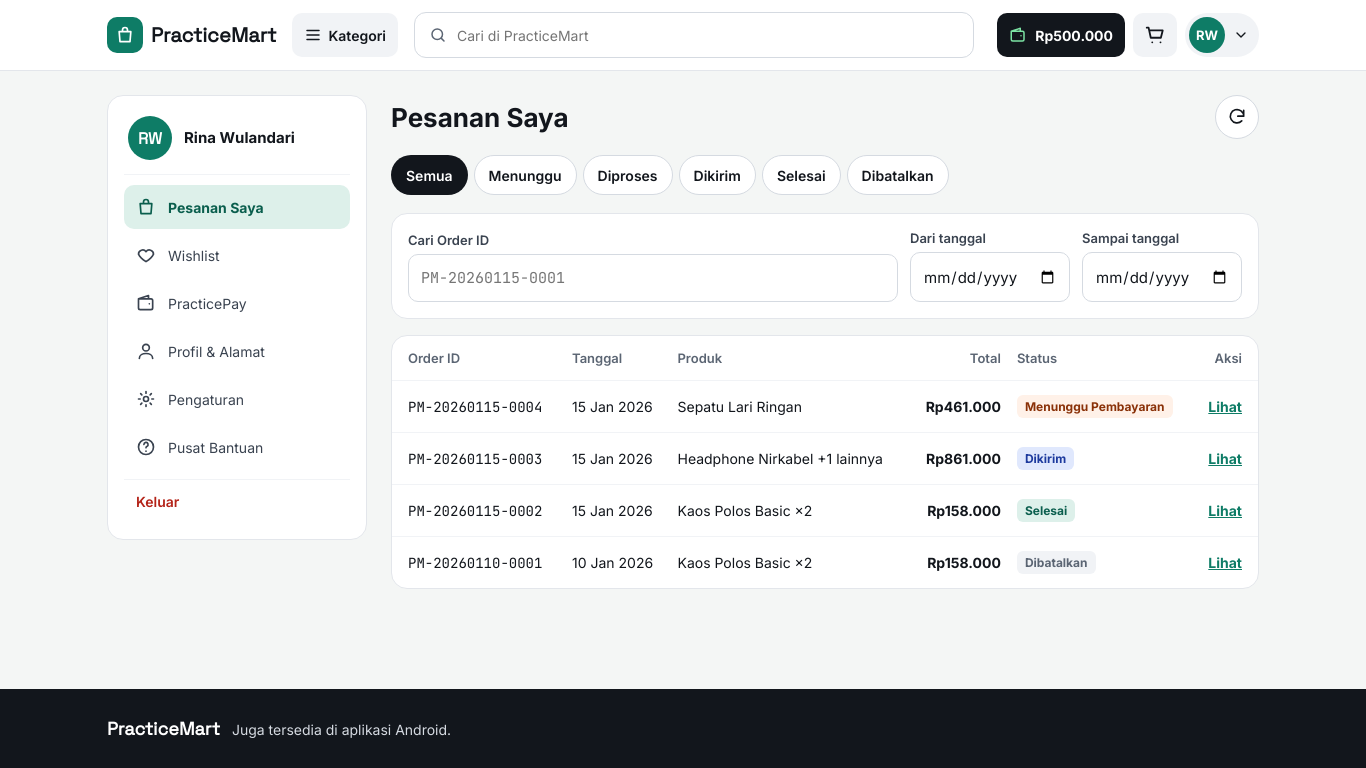
Test: Pesanan Saya (W-ORD-01) › tab, cari Order ID, rentang tanggal, empty state
Expected: the number of rows with test id "shop_item_order_row" is 4, [392, 380, 1258, 432]; [392, 432, 1258, 484]; [392, 484, 1258, 536]; [392, 536, 1258, 588]
Click the tab with test id "shop_tab_order_dikirim" at (717, 175), box [678, 155, 756, 195]
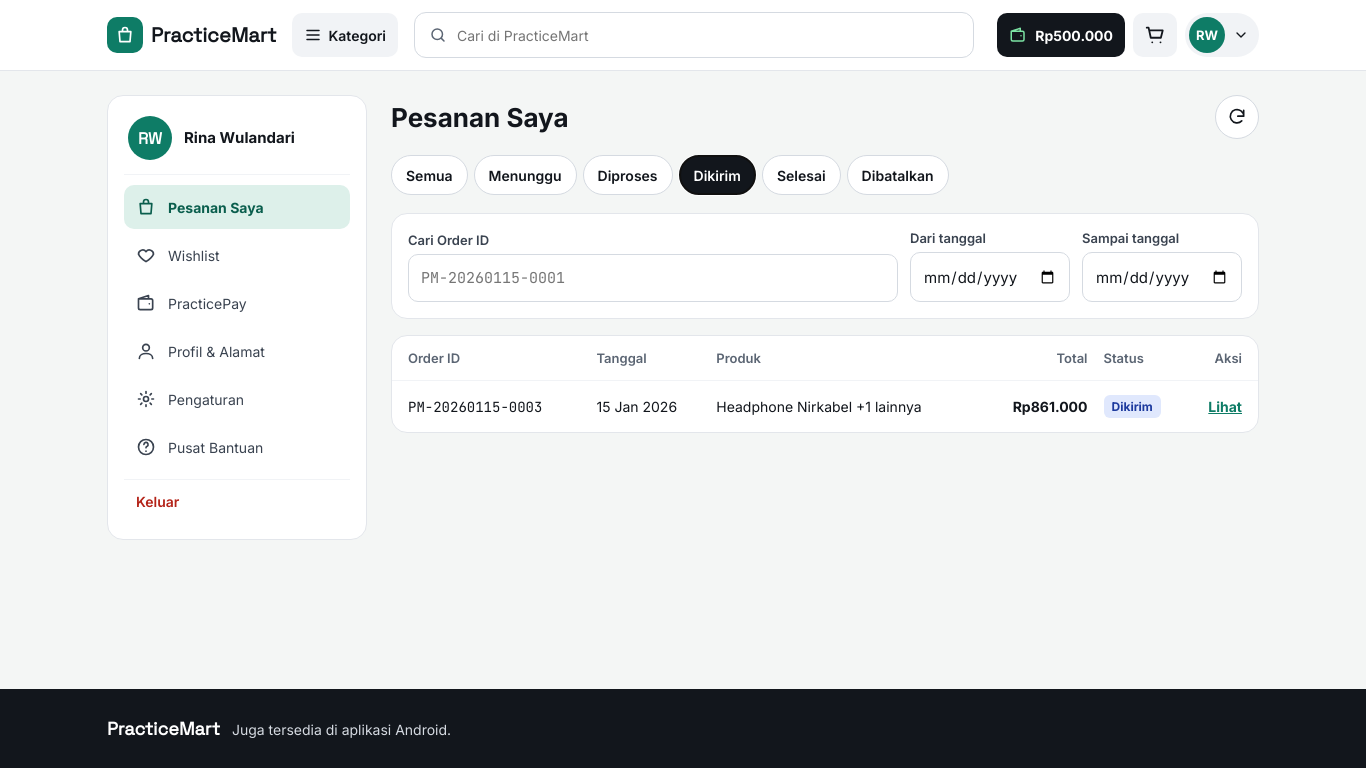
Result: the elements with test id "shop_txt_order_id" read "PM-20260115-0003", in this order at [392, 380, 588, 432]
Click the tab with test id "shop_tab_order_semua" at (429, 175), box [391, 155, 468, 195]
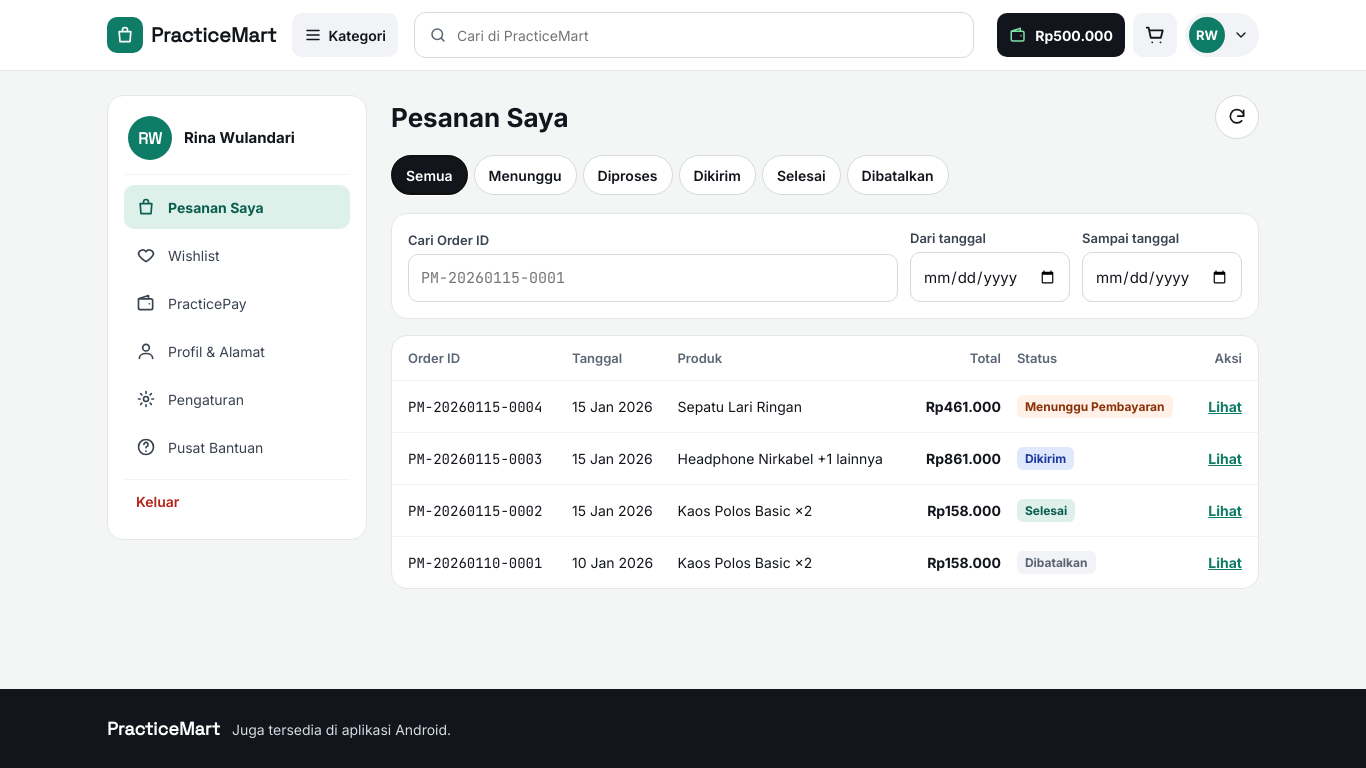
Type "pm-20260115-0002" into the search field with test id "shop_input_order_search" at (653, 278), box [408, 254, 898, 302]
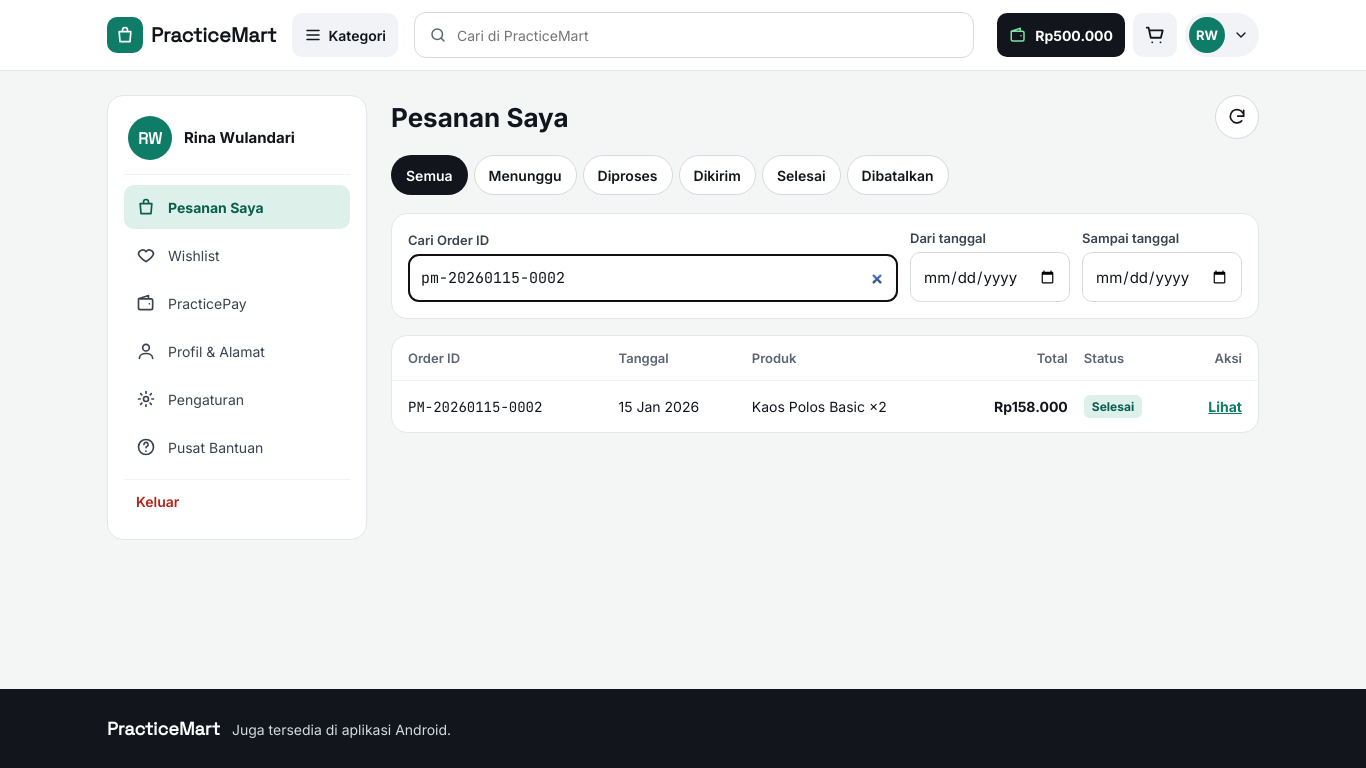
Result: the number of rows with test id "shop_item_order_row" is 1 at [392, 380, 1258, 432]
Clear the search field with test id "shop_input_order_search" at (653, 278), box [408, 254, 898, 302]
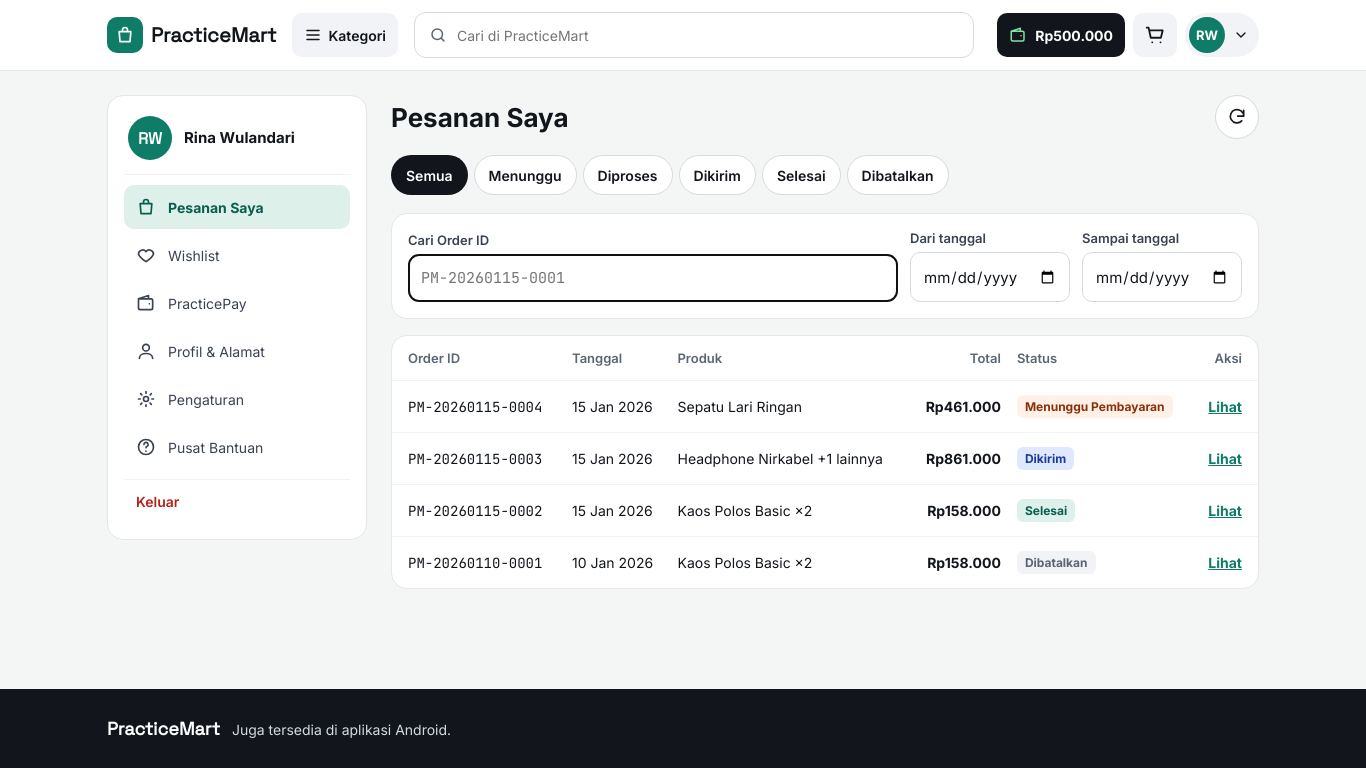
Type "2026-01-12" into the date field with test id "shop_input_order_date_to" at (1162, 277), box [1082, 252, 1242, 302]
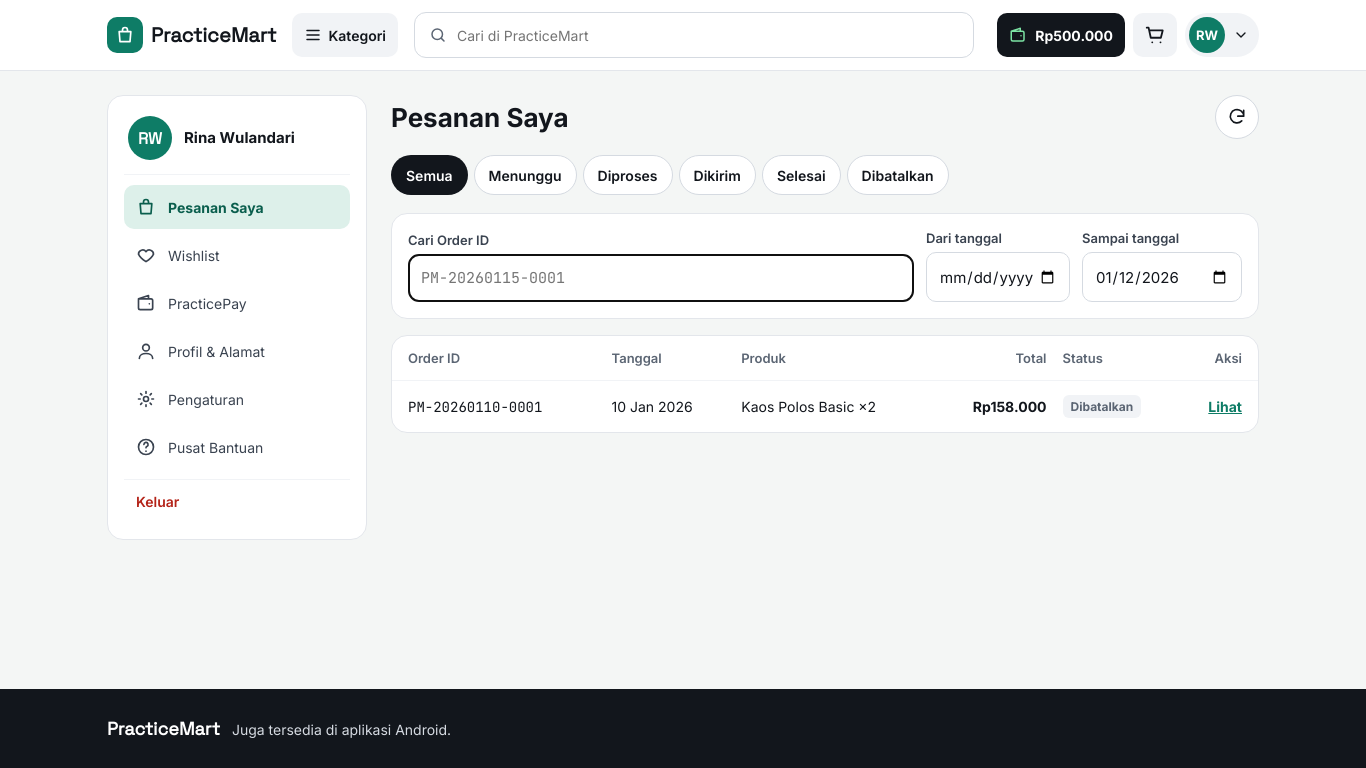
Result: the elements with test id "shop_txt_order_id" read "PM-20260110-0001", in this order at [392, 380, 604, 432]
Click the tab with test id "shop_tab_order_selesai" at (801, 175), box [762, 155, 841, 195]
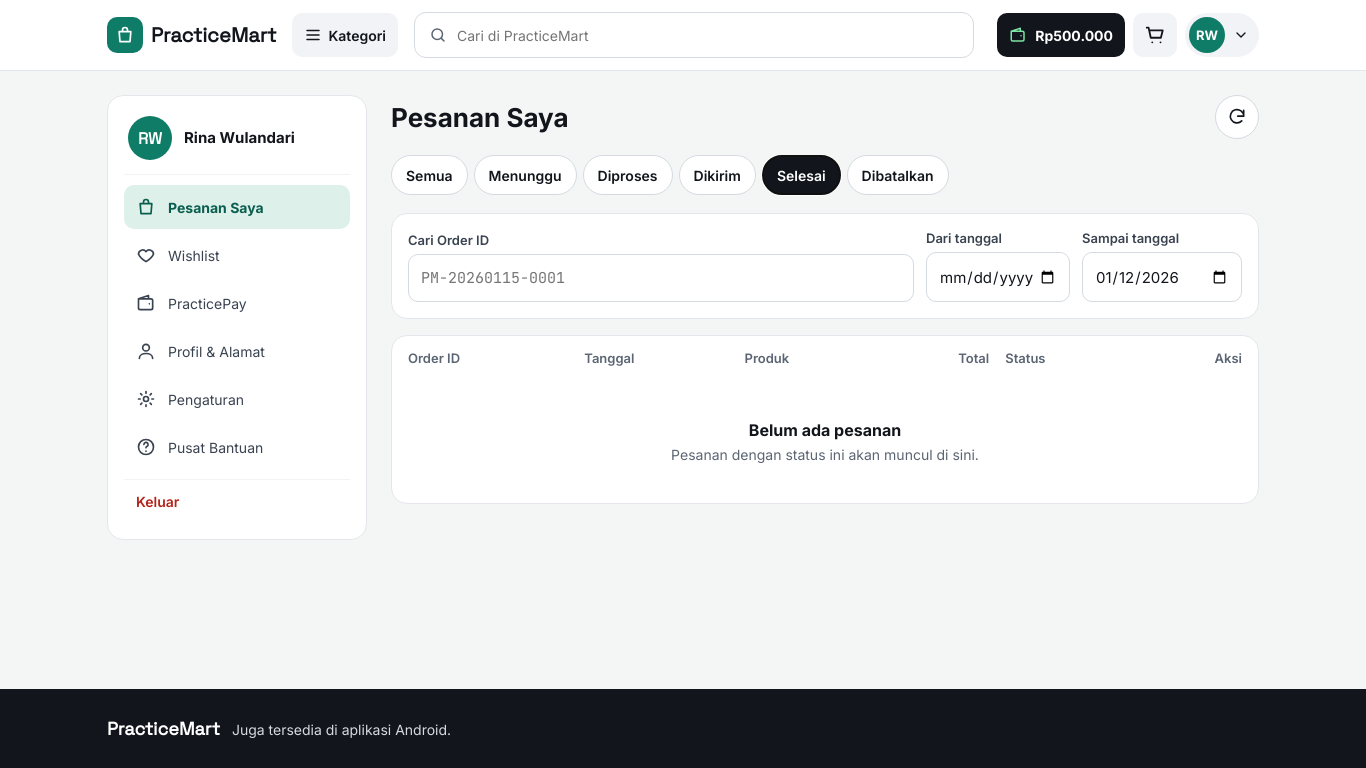
Result: no rows with test id "shop_item_order_row" are shown
Result: the element with test id "shop_txt_orders_empty" shows "Belum ada pesanan" at [749, 420, 901, 440]
